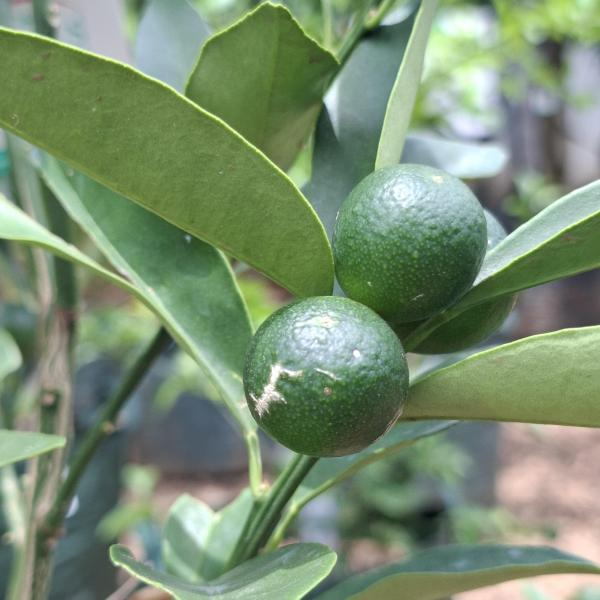Scab: (318, 158, 505, 338), (241, 287, 423, 463)
